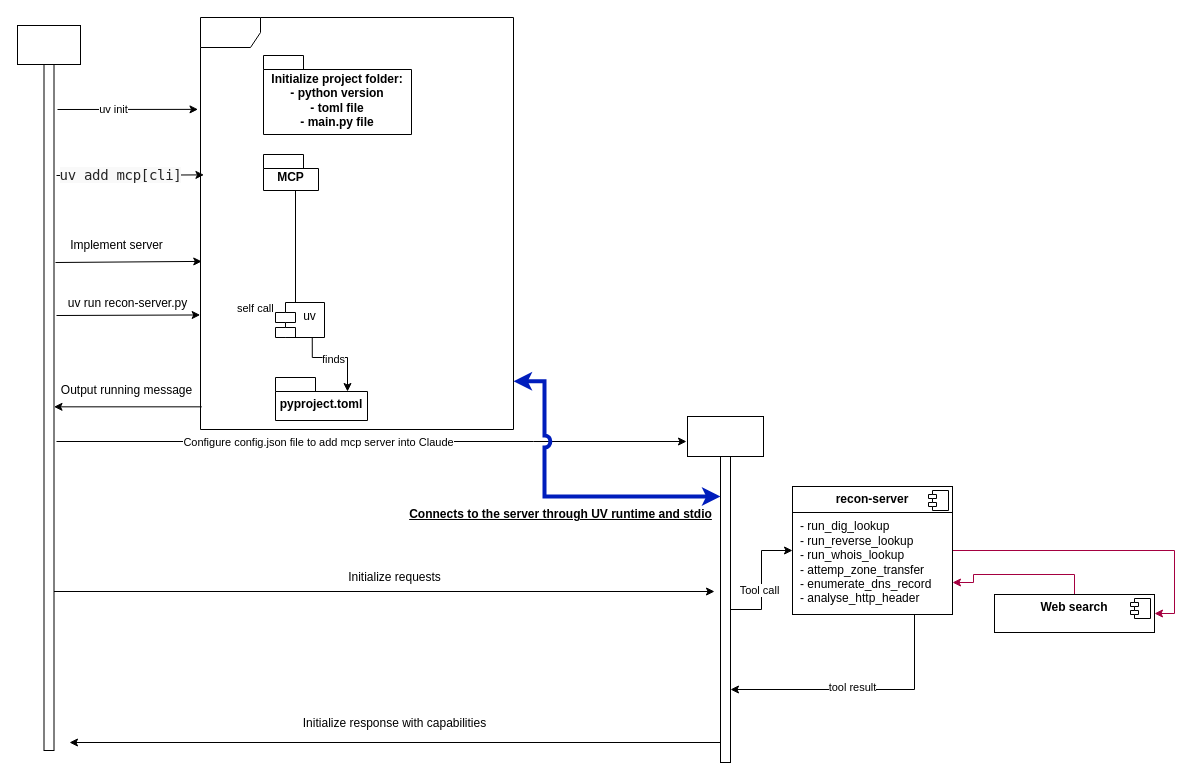
The diagram is 1200 pixels wide and 780 high, and some of its shapes have lost their labels. The box of each missing label's shape, as (x1, y1, x2, y2) in pixels:
Claude: (686, 416, 764, 456)
Client: (16, 24, 80, 64)
VS Code: (200, 16, 514, 430)
